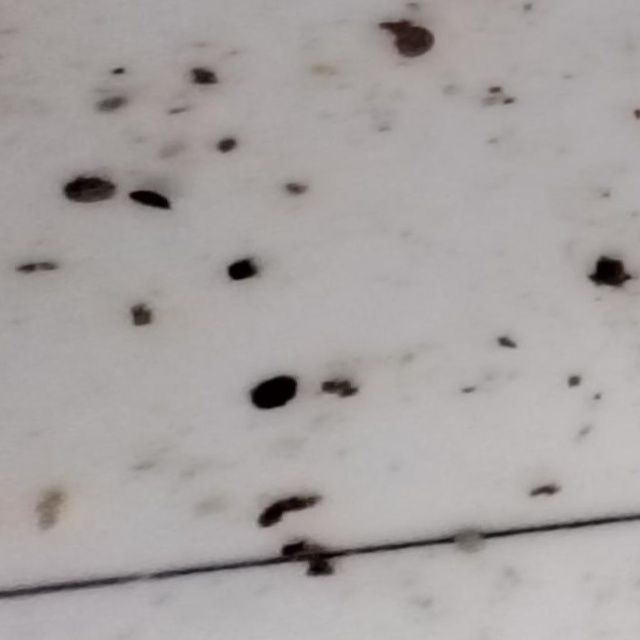varroa: (62, 174, 119, 211), (248, 375, 300, 414), (392, 21, 437, 65)
